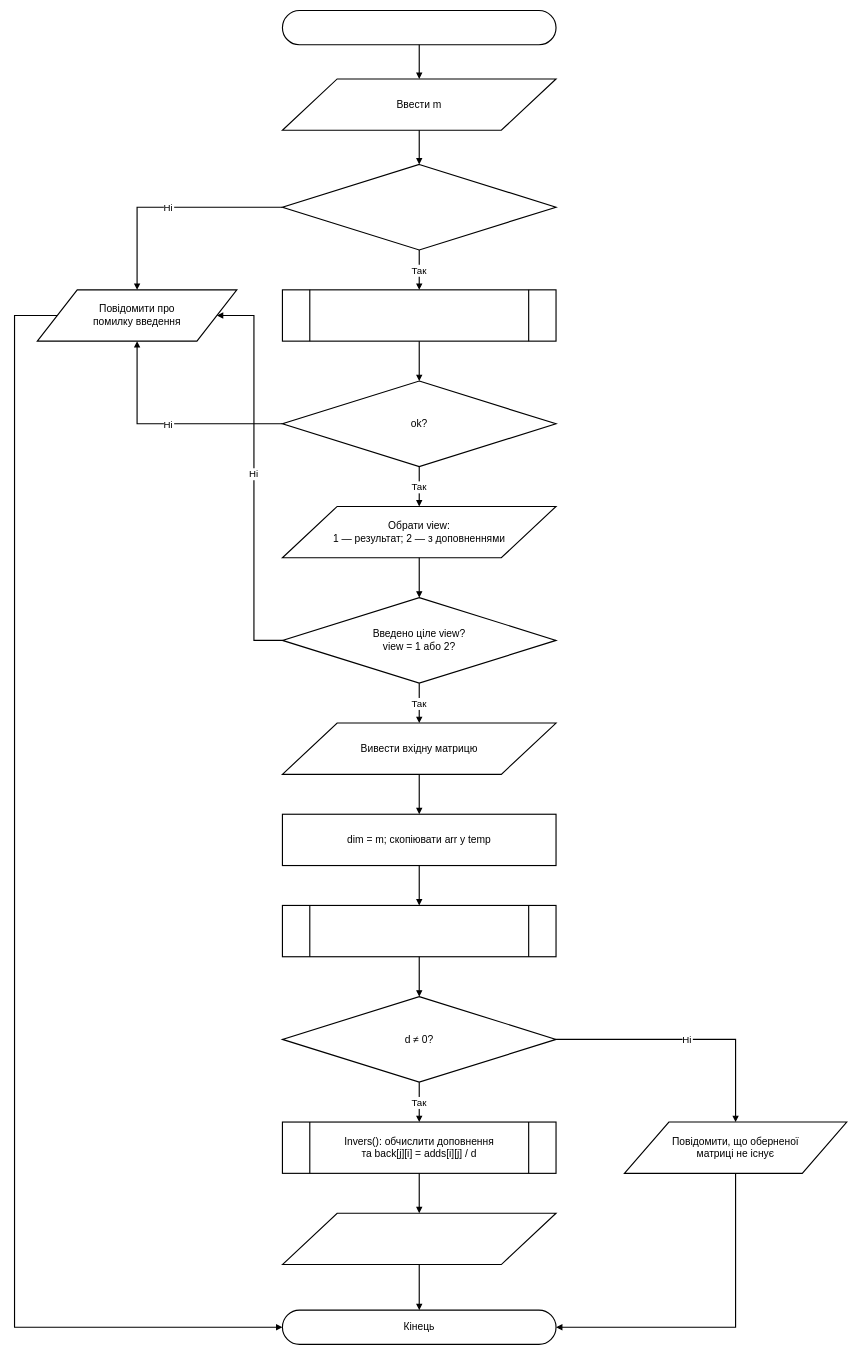
The diagram is 857 pixels wide and 1354 high, and some of its shapes have lost their labels. Each missing label, with the centre of its shape:
d = Det(0); вивести d: the point at 419,931
Make(): вибір способу та заповнення arr: the point at 419,315
PrintBack(): вивести обернену матрицю: the point at 419,1238
Введено ціле m? 3 ≤ m ≤ 6?: the point at 419,207
Початок: the point at 419,27
